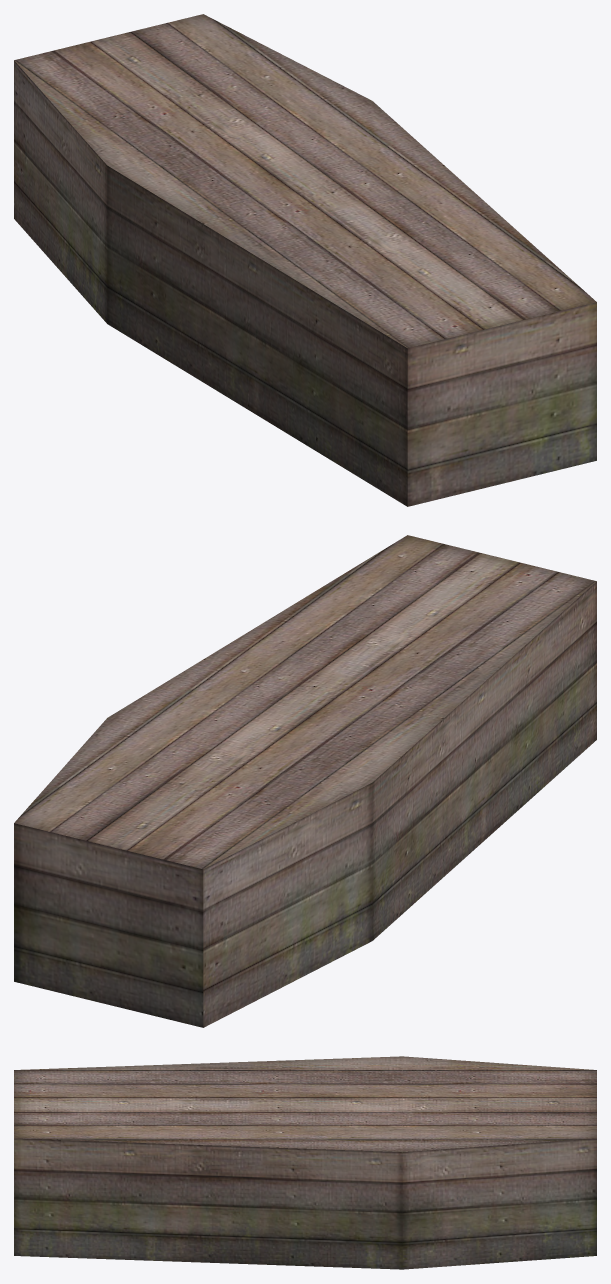
Rendered from coffin.obj.
3 views of the same model, one above another, from view 1: azimuth 30°, elevation 25°; view 2: azimuth 150°, elevation 25°; view 3: azimuth 270°, elevation 25° (orthographic). The views are drawn at different scales.
Visible parts, largest first — view 1: Mesh4_CoffinBox01_1_Model; view 2: Mesh4_CoffinBox01_1_Model; view 3: Mesh4_CoffinBox01_1_Model.
Boxes of the visible parts, box(x1,y1,x2,y2) form: Mesh4_CoffinBox01_1_Model: box(14, 14, 596, 506); Mesh4_CoffinBox01_1_Model: box(14, 535, 596, 1027); Mesh4_CoffinBox01_1_Model: box(14, 1056, 596, 1269).
Bounding box in the file's own units: 5.59 × 3.19 × 14.37.
